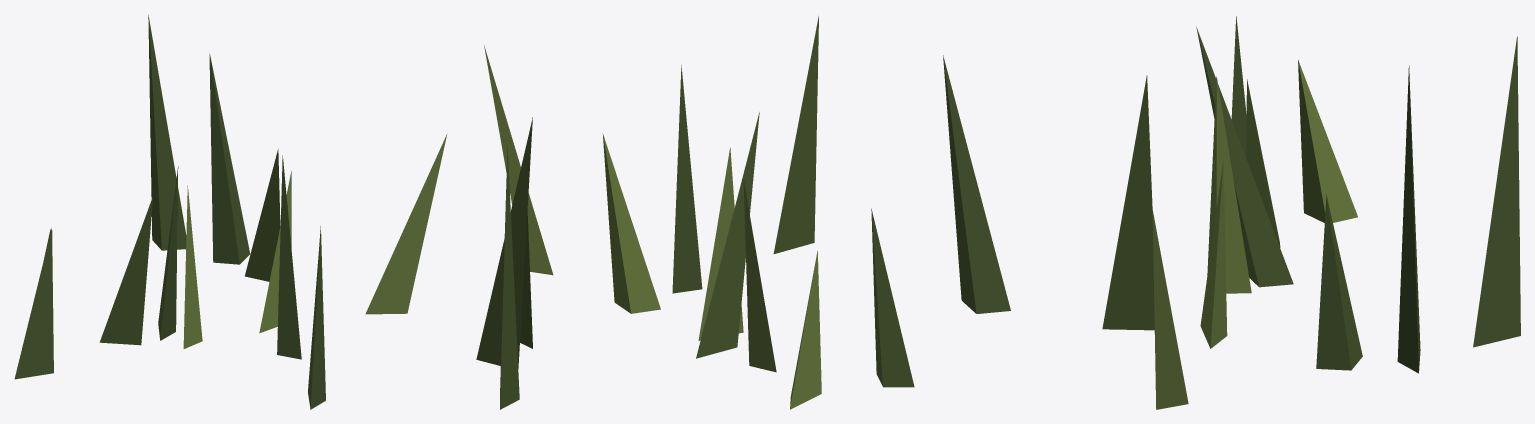
File: Grass_A.fbx
3 views of the same model, side by side, from view 1: azimuth 30°, elevation 25°; view 2: azimuth 150°, elevation 25°; view 3: azimuth 270°, elevation 25° (orthographic). The views are drawn at different scales.
Visible parts, largest first — view 1: Grass_A; view 2: Grass_A; view 3: Grass_A.
Boxes of the visible parts, bbox=[...] form: Grass_A: bbox=[14, 15, 447, 409]; Grass_A: bbox=[476, 16, 914, 409]; Grass_A: bbox=[943, 16, 1520, 409].
Size of the model in its own units: 0.7675 by 0.4178 by 0.7324.
